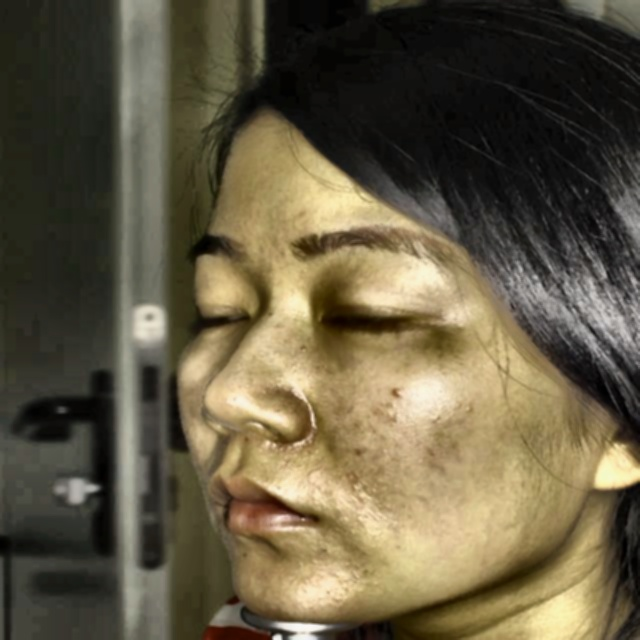comedone: (380, 375, 405, 409)
